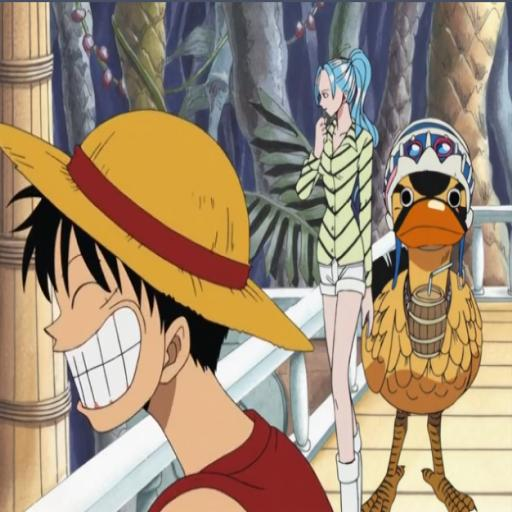Luffy: (0, 95, 346, 512)
